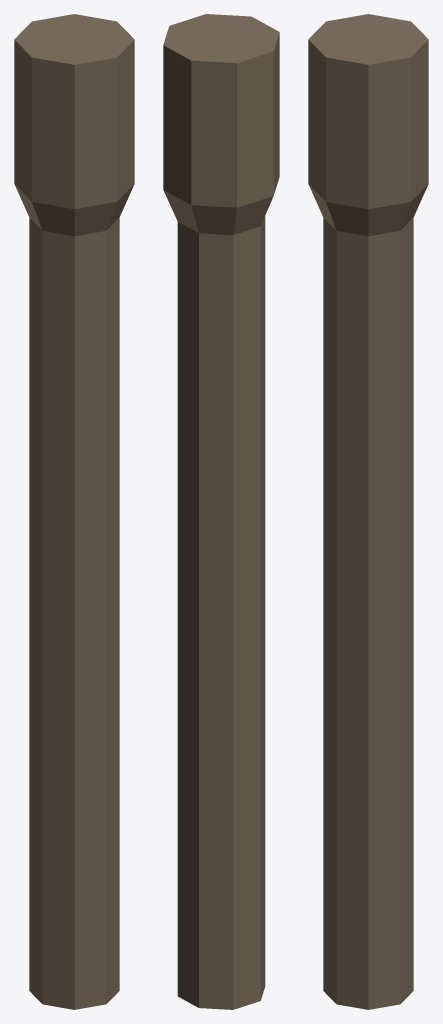
File: screwdriver_top.fbx
The picture shows the model from 3 angles, left to right: view 1: azimuth 90°, elevation 25°; view 2: azimuth 150°, elevation 25°; view 3: azimuth 270°, elevation 25°; orthographic projection.
Visible parts, largest first — view 1: screw_top; view 2: screw_top; view 3: screw_top.
Boxes of the visible parts, x1,y1,x2,y2 form: screw_top: (14, 14, 134, 1009); screw_top: (163, 14, 279, 1009); screw_top: (308, 14, 428, 1009).
Bounding box in the file's own units: 67.54 × 589 × 67.54.
